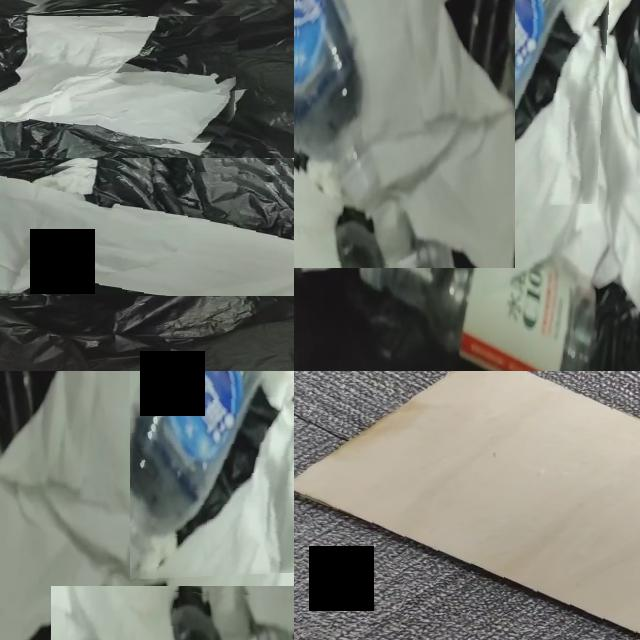bottle: (360, 213, 598, 371), (130, 371, 267, 581), (430, 0, 568, 206)
carton: (294, 371, 640, 635)
paper: (344, 0, 515, 268), (475, 37, 640, 314), (0, 371, 161, 640), (0, 165, 294, 296), (0, 16, 237, 146), (169, 427, 294, 640), (399, 198, 444, 277), (92, 573, 144, 640), (575, 0, 630, 42), (167, 535, 204, 590), (474, 158, 507, 203)
